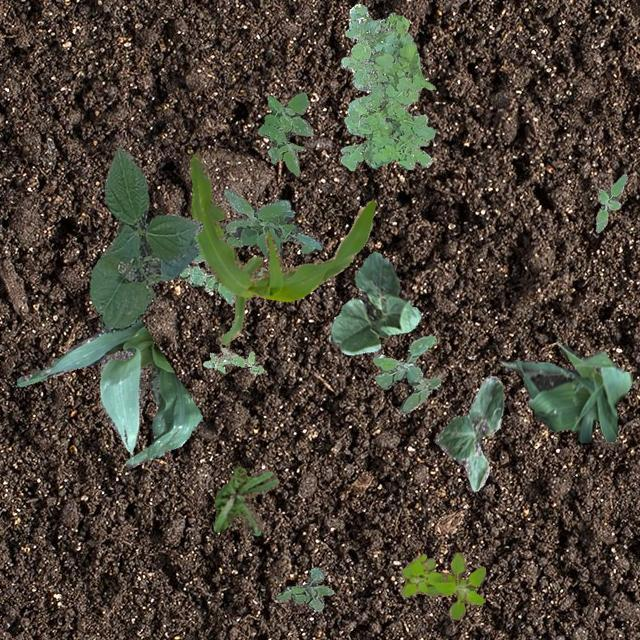crop: (190, 148, 373, 344), (15, 318, 202, 466), (89, 146, 202, 332), (499, 342, 632, 442), (328, 250, 420, 354), (433, 374, 502, 490)
weed: (340, 2, 434, 170), (220, 188, 322, 258), (400, 552, 484, 618), (372, 334, 441, 414), (256, 90, 312, 174), (212, 466, 278, 534), (178, 260, 266, 302), (274, 566, 332, 610), (594, 172, 626, 232), (202, 346, 262, 374), (190, 234, 204, 262)
